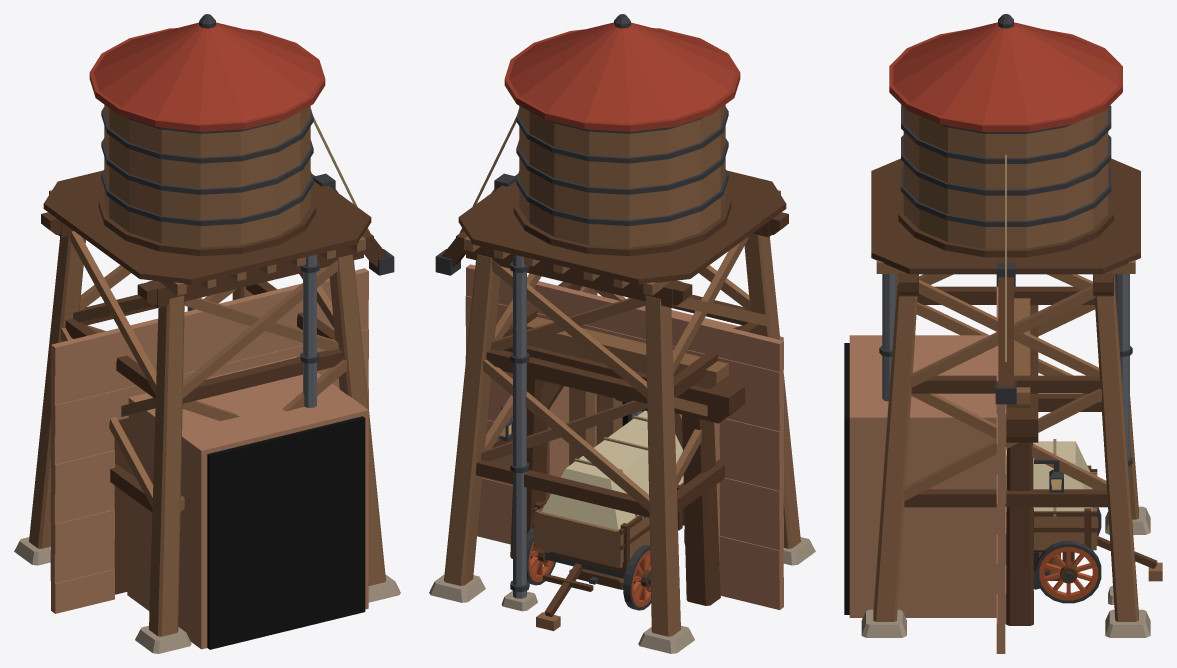
The model's file is Kit.fbx.
3 views of the same model, side by side, from view 1: azimuth 30°, elevation 25°; view 2: azimuth 150°, elevation 25°; view 3: azimuth 270°, elevation 25° (orthographic).
Parts seen in each view (by area): view 1: CNWaterTower_CN_Wood, CNMinePortal_CN_WoodLight, CNMinePortal_CN_Black, CNWaterTower_CN_WoodDark, CNWaterTower_CN_Roof, CNWaterTower_CN_Iron, CNWaterTower_CN_Concrete, CNWaterTower_CN_Steel, CNMinePortal_CN_WoodDark; view 2: CNWaterTower_CN_Wood, CNMinePortal_CN_WoodLight, CNWaterTower_CN_WoodDark, CNWaterTower_CN_Roof, CNMinePortal_CN_WoodDark, CNWaterTower_CN_Iron, CNMinePortal_CN_Wood, CNWagon_CN_Canvas, CNWaterTower_CN_Steel, CNWagon_CN_Wood, CNWaterTower_CN_Concrete, CNWagon_CN_WoodDark (+2 smaller); view 3: CNWaterTower_CN_Wood, CNMinePortal_CN_WoodLight, CNWaterTower_CN_WoodDark, CNWaterTower_CN_Roof, CNMinePortal_CN_WoodDark, CNWaterTower_CN_Iron, CNWaterTower_CN_Steel, CNWaterTower_CN_Concrete, CNWagon_CN_Paint, CNWagon_CN_Canvas, CNWagon_CN_Wood, CNWagon_CN_WoodDark (+3 smaller).
Part boxes in pixels (box(x1,y1,x2,y2)): CNWaterTower_CN_Wood: box(29, 105, 385, 636); CNMinePortal_CN_WoodLight: box(50, 268, 368, 649); CNMinePortal_CN_Black: box(207, 416, 365, 649); CNWaterTower_CN_WoodDark: box(41, 170, 388, 517); CNWaterTower_CN_Roof: box(89, 22, 325, 131); CNWaterTower_CN_Iron: box(101, 14, 394, 363); CNWaterTower_CN_Concrete: box(14, 537, 400, 653); CNWaterTower_CN_Steel: box(187, 254, 316, 407); CNMinePortal_CN_WoodDark: box(114, 418, 127, 594); CNWaterTower_CN_Wood: box(444, 105, 800, 636); CNMinePortal_CN_WoodLight: box(465, 264, 783, 609); CNWaterTower_CN_WoodDark: box(441, 170, 788, 517); CNWaterTower_CN_Roof: box(504, 22, 740, 131); CNMinePortal_CN_WoodDark: box(500, 345, 745, 605); CNWaterTower_CN_Iron: box(435, 14, 728, 591); CNMinePortal_CN_Wood: box(527, 317, 728, 465); CNWagon_CN_Canvas: box(541, 410, 683, 530); CNWaterTower_CN_Steel: box(513, 254, 642, 598); CNWagon_CN_Wood: box(534, 482, 683, 631); CNWaterTower_CN_Concrete: box(429, 537, 815, 653); CNWagon_CN_WoodDark: box(530, 483, 683, 616); CNWaterTower_CN_Wood: box(873, 107, 1138, 621); CNMinePortal_CN_WoodLight: box(849, 286, 1006, 653); CNWaterTower_CN_WoodDark: box(871, 158, 1140, 507); CNWaterTower_CN_Roof: box(889, 22, 1122, 131); CNMinePortal_CN_WoodDark: box(1006, 305, 1038, 625); CNWaterTower_CN_Iron: box(879, 14, 1132, 582); CNWaterTower_CN_Steel: box(882, 274, 1129, 486); CNWaterTower_CN_Concrete: box(861, 506, 1150, 637); CNWagon_CN_Paint: box(1039, 517, 1098, 600); CNWagon_CN_Canvas: box(1006, 441, 1092, 511); CNWagon_CN_Wood: box(1006, 472, 1162, 581); CNWagon_CN_WoodDark: box(1006, 465, 1157, 583).
Size of the model in its own units: 22.65 by 35.72 by 18.3.
